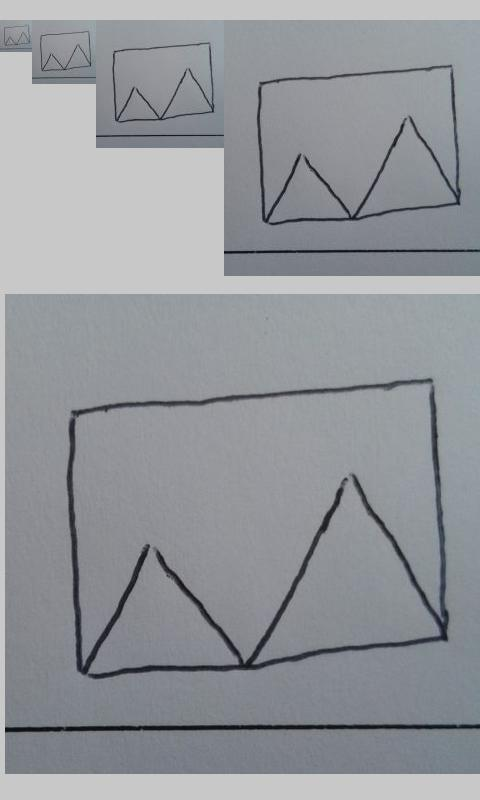image_view: (67, 375, 452, 680), (253, 63, 465, 228), (111, 40, 215, 123), (39, 30, 91, 72), (4, 24, 31, 46)
